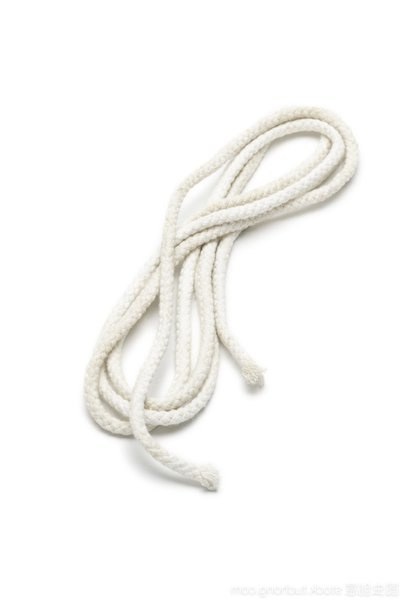9/可回收垃圾/绳子: (84, 106, 358, 492)
